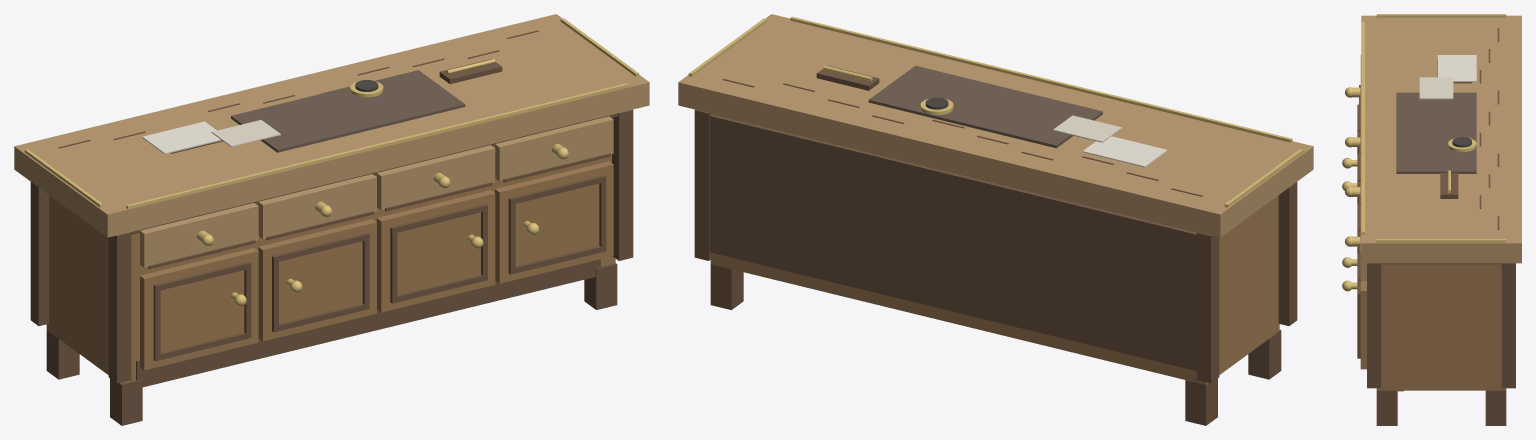
File: staff_room_north_desk.glb
The picture shows the model from 3 angles, left to right: view 1: azimuth 30°, elevation 25°; view 2: azimuth 150°, elevation 25°; view 3: azimuth 270°, elevation 25°; orthographic projection. The views are drawn at different scales.
Visible parts, largest first — view 1: TopSlab, CabinetBody, Door_1, Door_4, Door_3, Door_2, DeskPad, ToeKick, Drawer_3, Drawer_2, Drawer_1, Drawer_4 (+19 smaller); view 2: BackRail, TopSlab, CabinetBody, DeskPad, SideBackPost_-1, SideFrontPost_-1, TopBrassFront, SideBackPost_1, PaperSheet_A, Foot_-1_-1, Foot_1_-1, Foot_-1_1 (+2 smaller); view 3: TopSlab, CabinetBody, DeskPad, SideFrontPost_1, SideBackPost_1, PaperSheet_A, TopBrassFront, PaperSheet_B, Foot_1_1, Foot_1_-1, Door_4, TopBrassSide_-1 (+7 smaller).
Boxes of the visible parts, x1,y1,x2,y2 form: TopSlab: [14, 14, 649, 237]; CabinetBody: [46, 146, 615, 383]; Door_1: [140, 248, 258, 370]; Door_4: [495, 161, 613, 283]; Door_3: [376, 190, 495, 312]; Door_2: [258, 219, 376, 341]; DeskPad: [231, 70, 465, 152]; ToeKick: [136, 259, 600, 387]; Drawer_3: [376, 145, 495, 210]; Drawer_2: [258, 174, 376, 238]; Drawer_1: [140, 203, 258, 267]; Drawer_4: [495, 116, 613, 181]; BackRail: [709, 114, 1196, 370]; TopSlab: [678, 14, 1313, 237]; CabinetBody: [710, 195, 1279, 384]; DeskPad: [868, 65, 1102, 148]; SideBackPost_-1: [1196, 232, 1219, 383]; SideFrontPost_-1: [1278, 182, 1297, 325]; TopBrassFront: [790, 16, 1292, 142]; SideBackPost_1: [694, 109, 714, 260]; PaperSheet_A: [1082, 136, 1167, 167]; Foot_-1_-1: [1185, 378, 1217, 425]; Foot_1_-1: [710, 264, 743, 309]; Foot_-1_1: [1248, 329, 1281, 379]; TopSlab: [1361, 15, 1521, 263]; CabinetBody: [1379, 264, 1506, 390]; DeskPad: [1396, 92, 1476, 173]; SideFrontPost_1: [1367, 263, 1381, 388]; SideBackPost_1: [1501, 263, 1515, 388]; PaperSheet_A: [1437, 55, 1476, 81]; TopBrassFront: [1361, 22, 1364, 234]; PaperSheet_B: [1419, 77, 1453, 99]; Foot_1_1: [1376, 388, 1397, 425]; Foot_1_-1: [1485, 390, 1506, 425]; Door_4: [1360, 281, 1366, 369]; TopBrassSide_-1: [1376, 14, 1506, 17].
Size of the model in its own units: 2.08 by 0.861 by 0.694.
